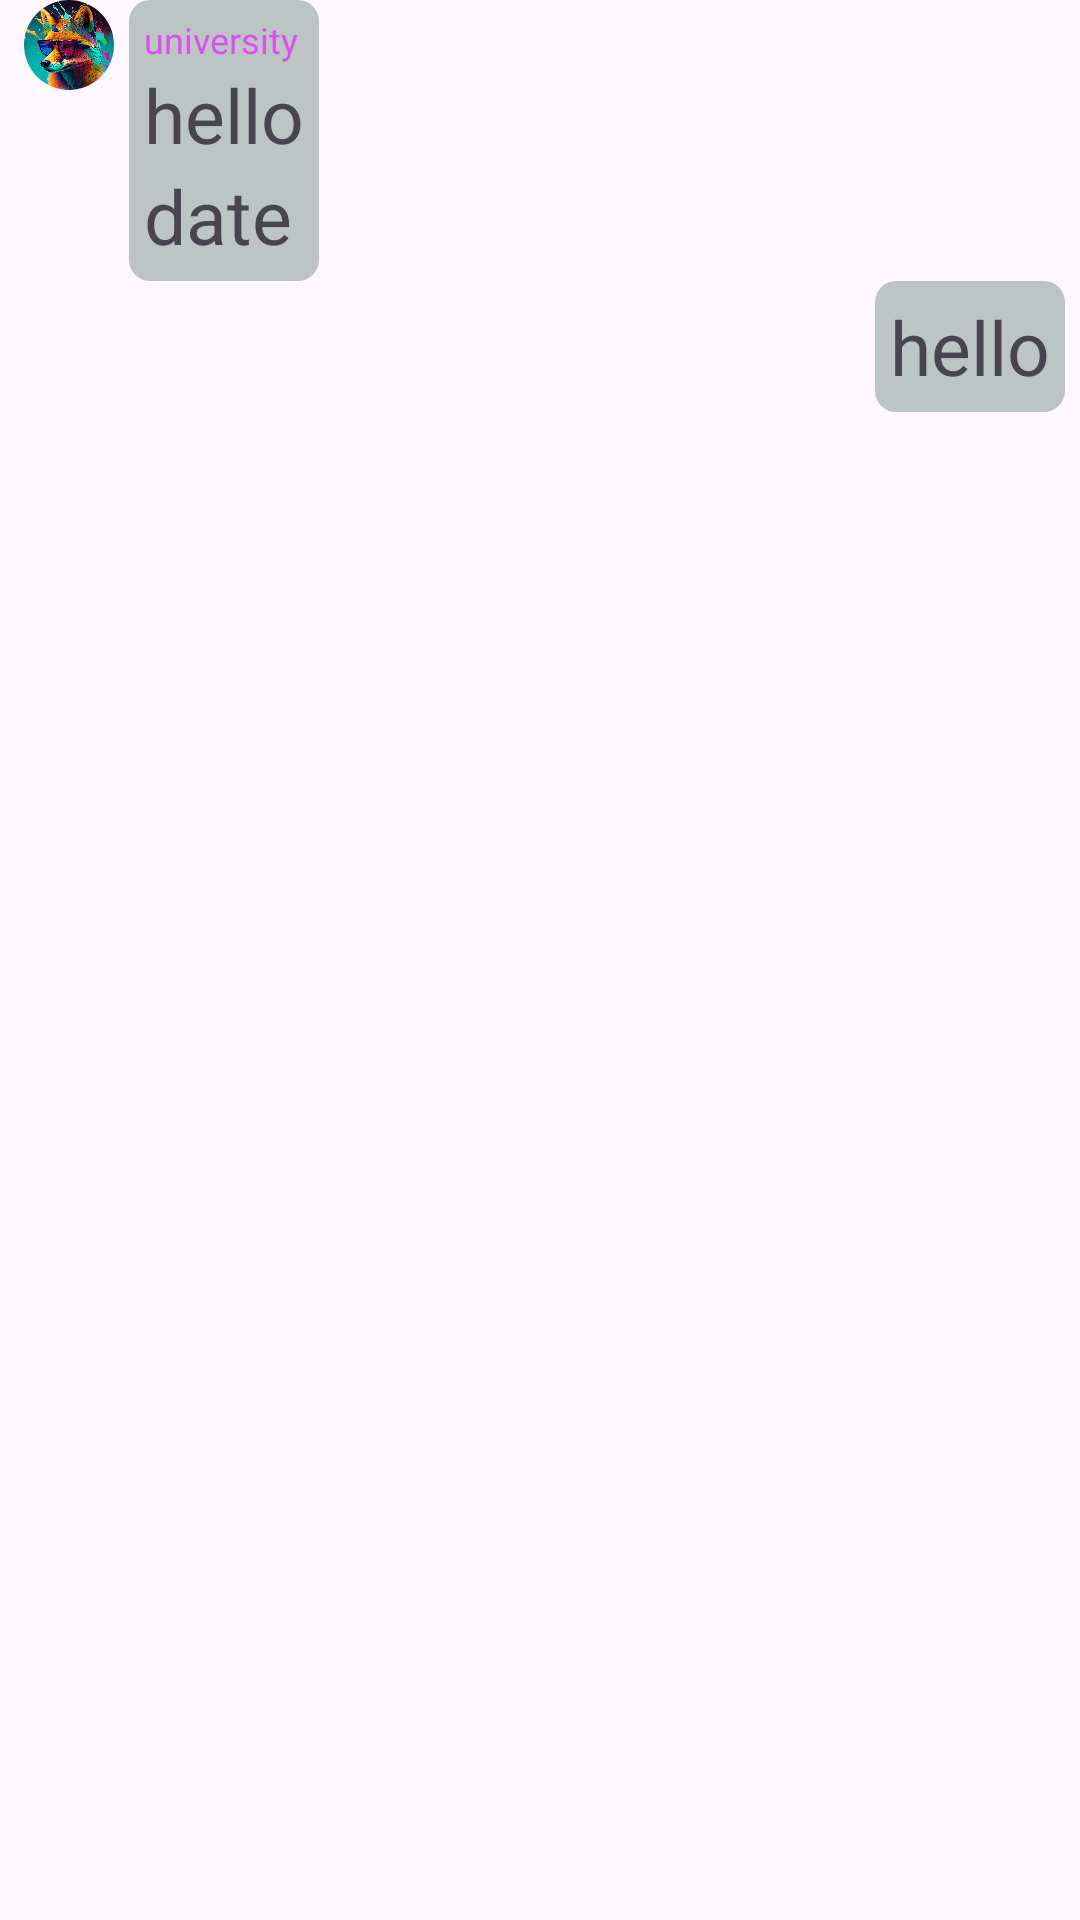

Icon bounding boxes for this 1080×1920 phone screenshot, format (x1, y1, x2, y2):
fox: (24, 0, 114, 90)
